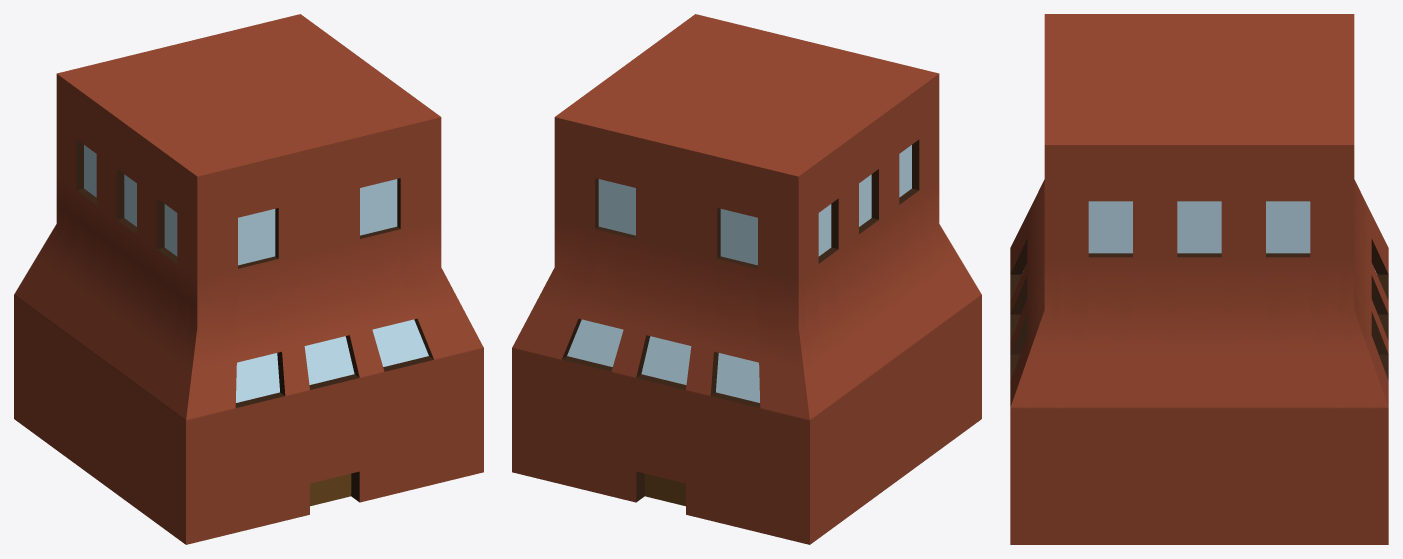
Rendered from mediumMiddle2.fbx.
3 views of the same model, side by side, from view 1: azimuth 30°, elevation 25°; view 2: azimuth 150°, elevation 25°; view 3: azimuth 270°, elevation 25° (orthographic). The views are drawn at different scales.
Parts seen in each view (by area): view 1: pCube1; view 2: pCube1; view 3: pCube1.
Boxes of the visible parts, <box> form: pCube1: <box>14,14,483,544</box>; pCube1: <box>512,14,981,544</box>; pCube1: <box>1010,14,1388,544</box>.
Size of the model in its own units: 10 by 11.25 by 10.
